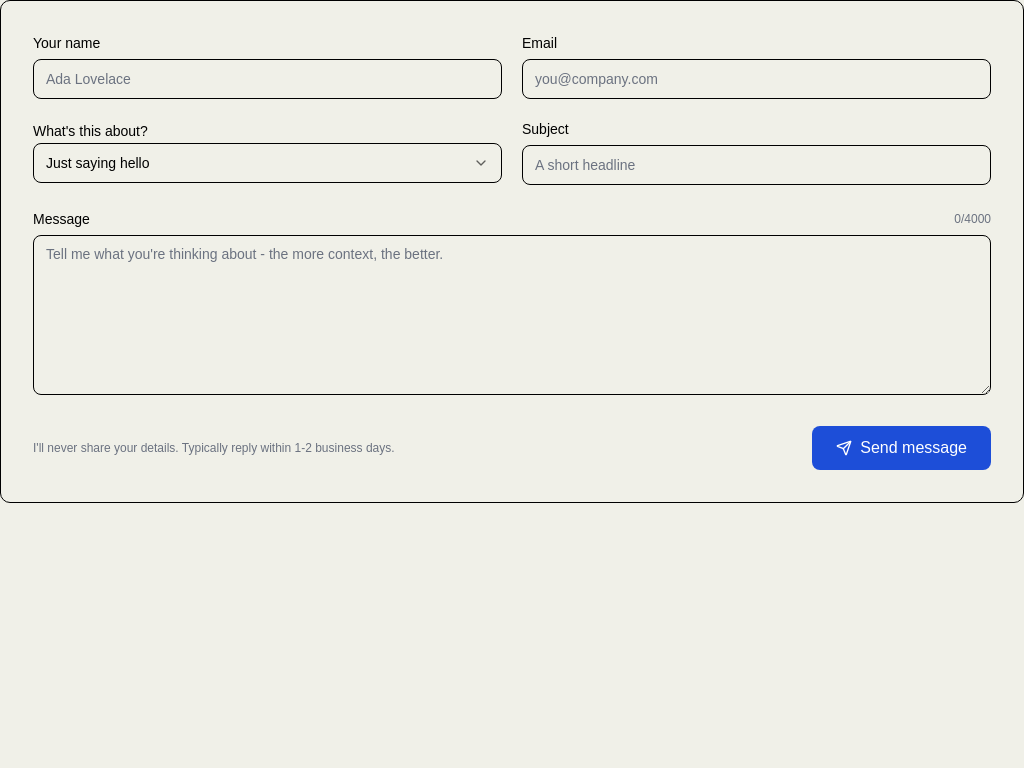
Test: ContactForm › blocks submission and shows inline errors when required fields are empty
Click the button "Send message" at (902, 448), box left=812, top=426, right=991, bottom=470
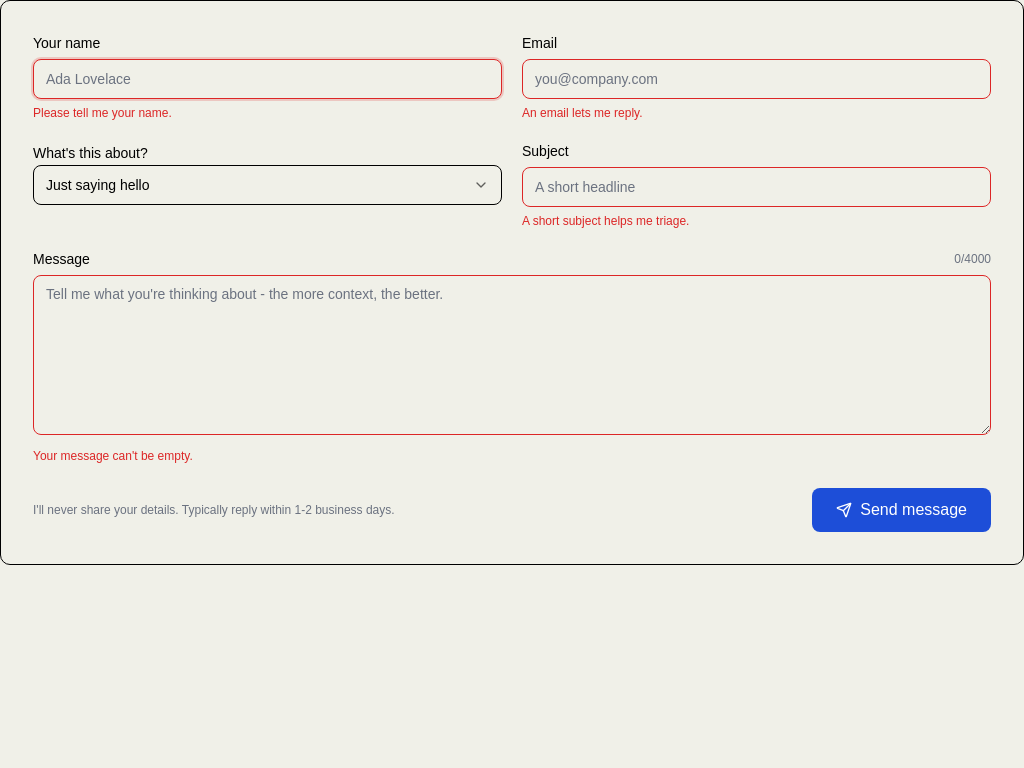
Result: the text "Please tell me your name." is shown at left=33, top=106, right=172, bottom=120
Result: the text "An email lets me reply." is shown at left=522, top=106, right=642, bottom=120
